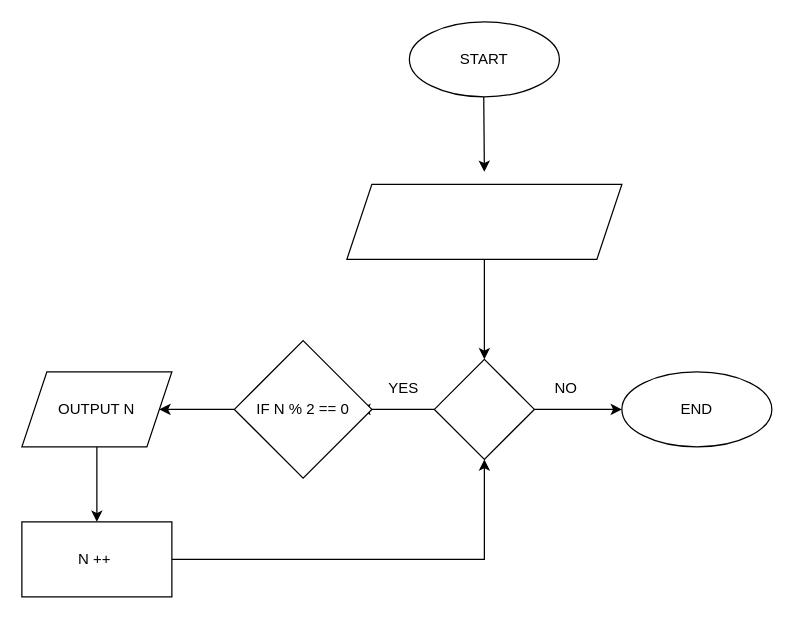
Some shapes in this 794 by 619 pixel diagram are drawn without their labels. Here are the shapes that lost their labels. From the top down, the centre of each, then its label:
At (x=484, y=221): "INIT N = 9".
At (x=483, y=408): "IF N <= 100".
